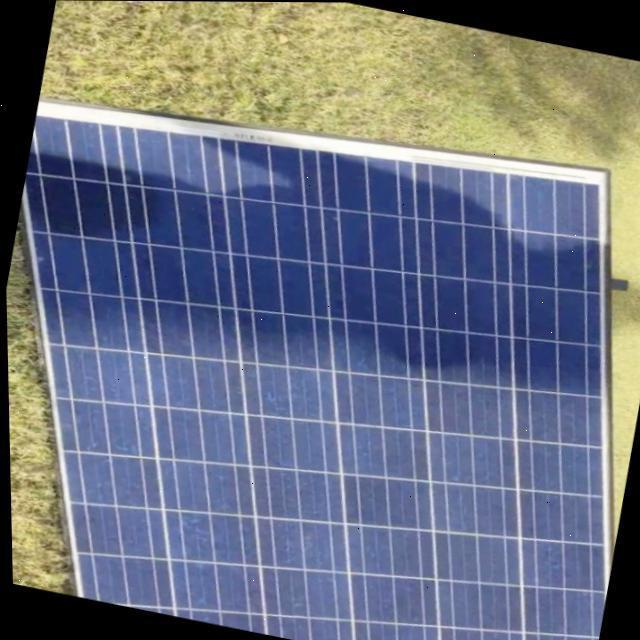Normal Solar Panel: (1, 57, 640, 640)
